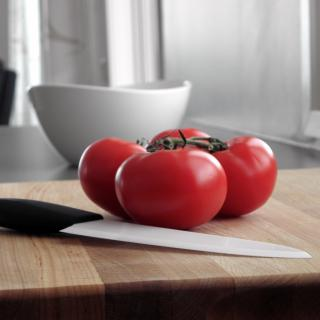Tomato: (115, 128, 231, 223), (204, 134, 278, 216), (76, 135, 149, 216), (144, 128, 213, 150)
